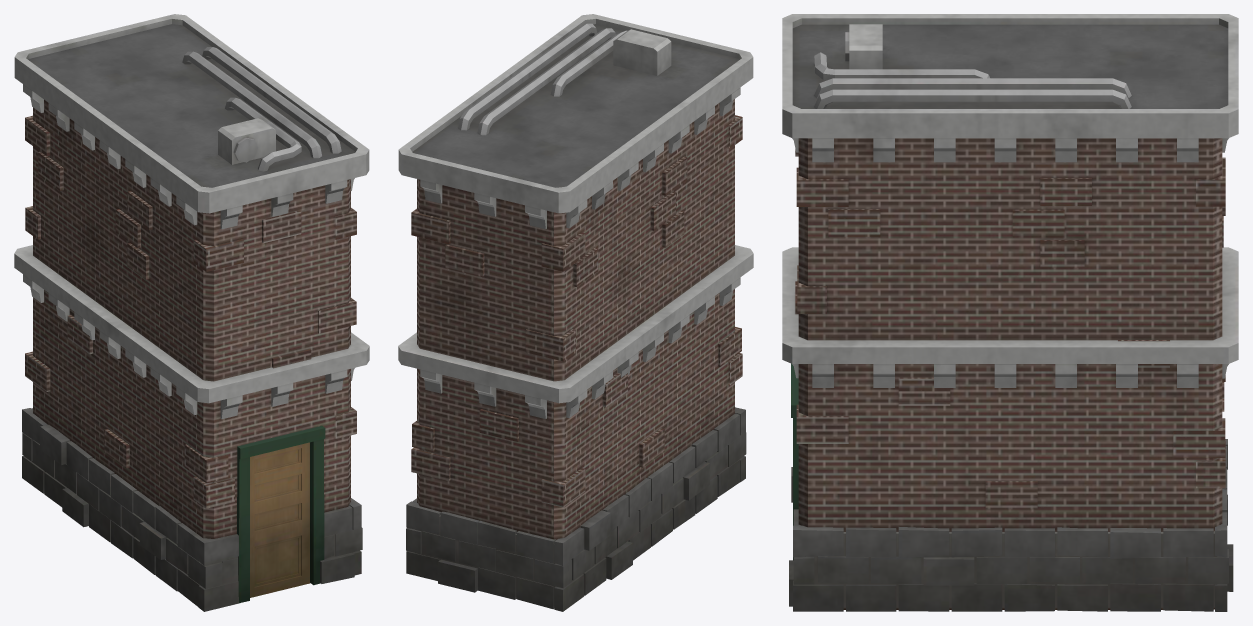
The model's file is 2Story_Slim.glb.
The picture shows the model from 3 angles, left to right: view 1: azimuth 30°, elevation 25°; view 2: azimuth 150°, elevation 25°; view 3: azimuth 270°, elevation 25°; orthographic projection. The views are drawn at different scales.
Parts seen in each view (by area): view 1: 2Story_Slim_medium; view 2: 2Story_Slim_medium; view 3: 2Story_Slim_medium.
Boxes of the visible parts, x1,y1,x2,y2 form: 2Story_Slim_medium: [14, 14, 369, 611]; 2Story_Slim_medium: [398, 14, 753, 611]; 2Story_Slim_medium: [782, 14, 1238, 611].
Size of the model in its own units: 1.12 by 2.76 by 2.15.
1 material, 1 textured.
